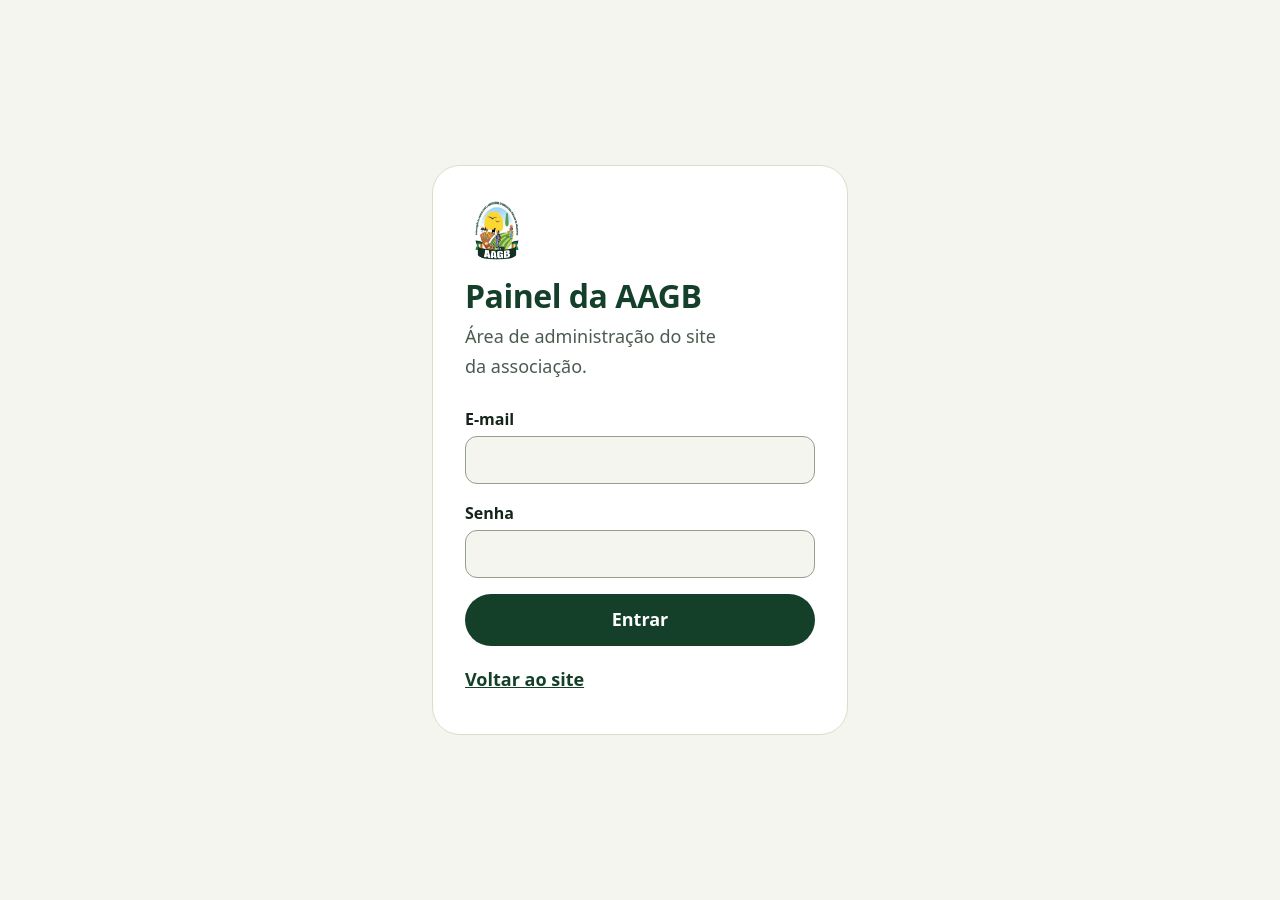
Scenario: painel administrativo › sem sessão mostra o login; senha errada mostra o erro do servidor; certa abre o resumo
Expected: the heading "Painel da AAGB" is shown, [465,274,702,317]
Type "ana@aagb.test" into the field labelled "E-mail".
click(640, 460); type("ana@aagb.test")  # box [465,436,815,484]
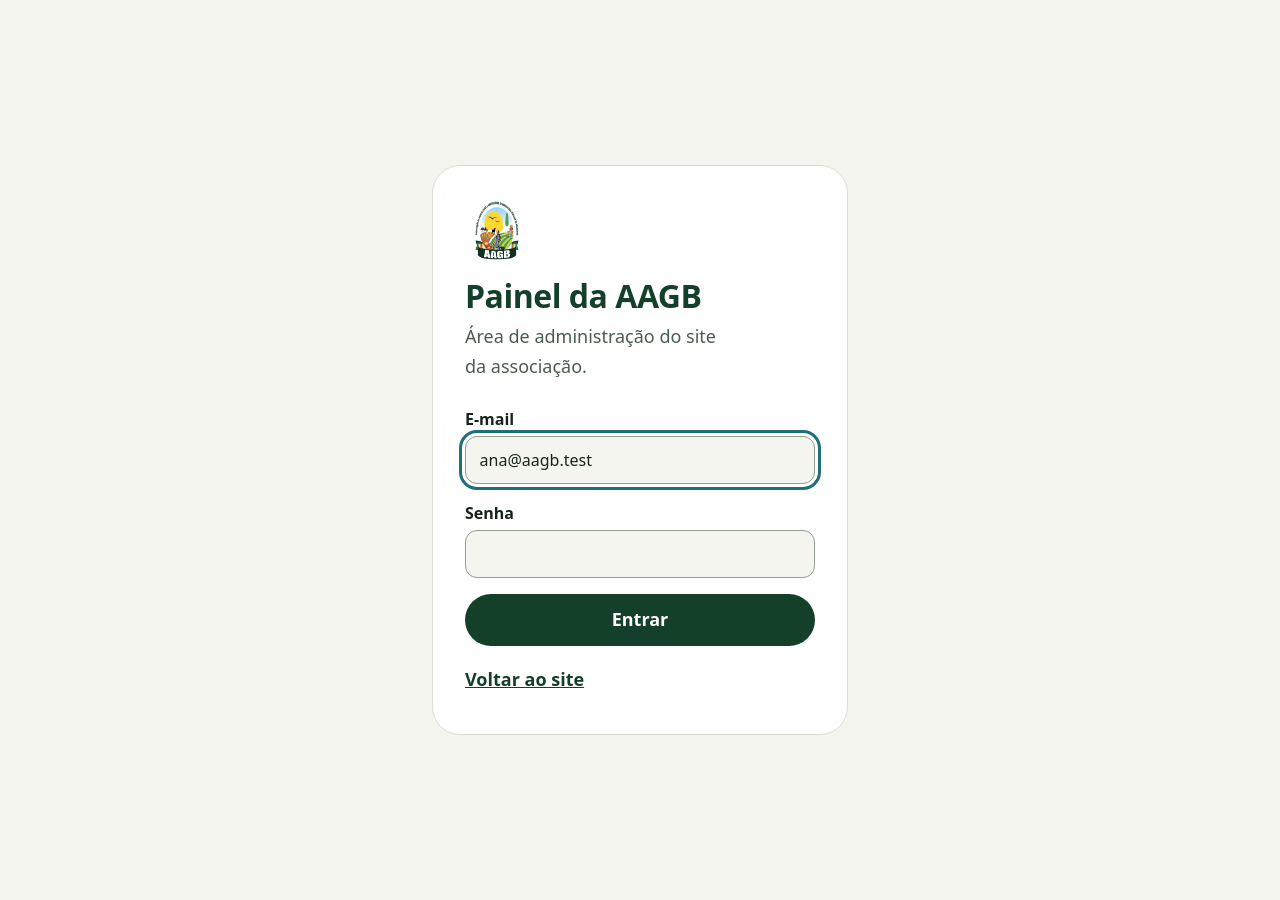
Type "errada" into the password field labelled "Senha".
click(640, 554); type("errada")  # box [465,530,815,578]
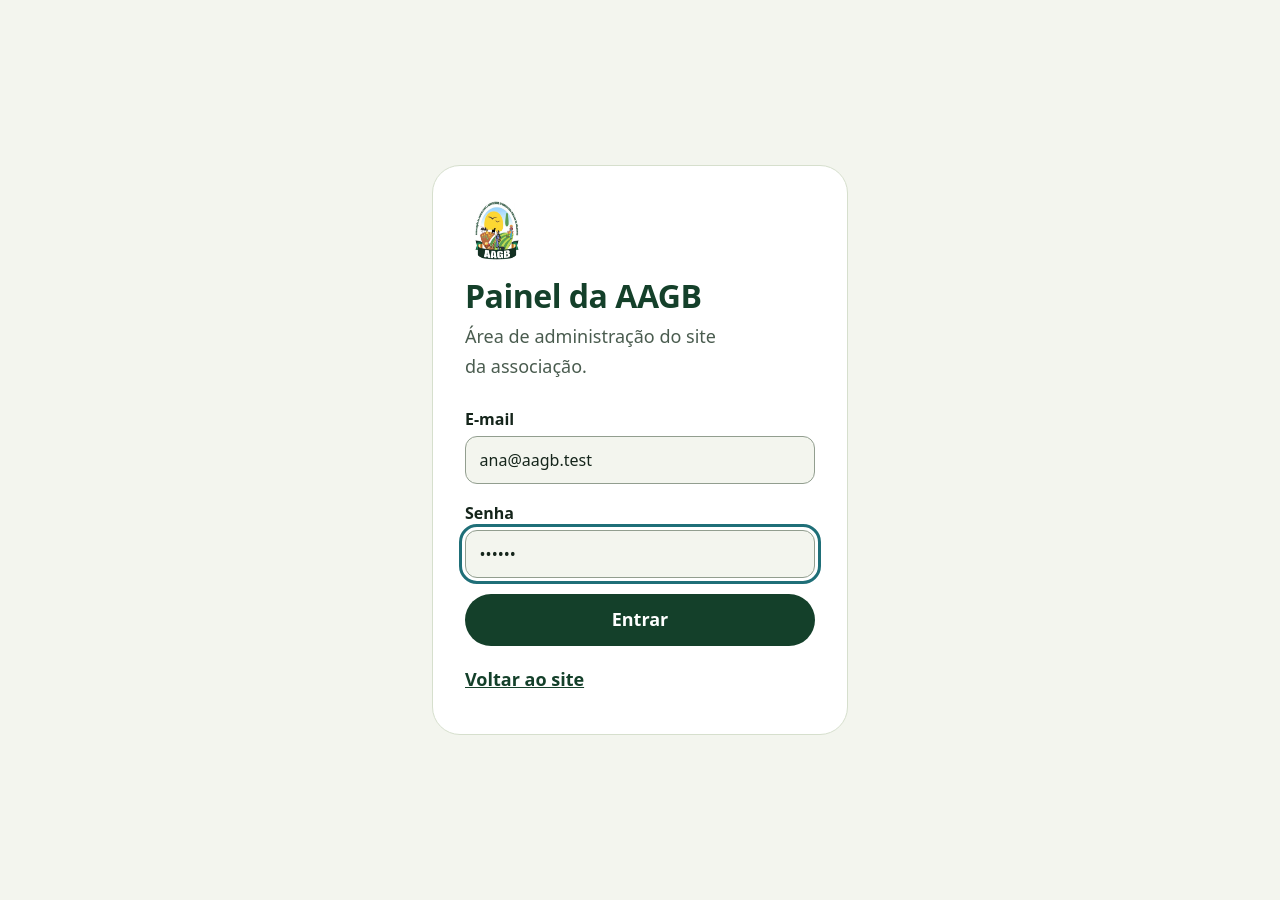
Click the button "Entrar".
click(640, 620)  # box [465,594,815,646]
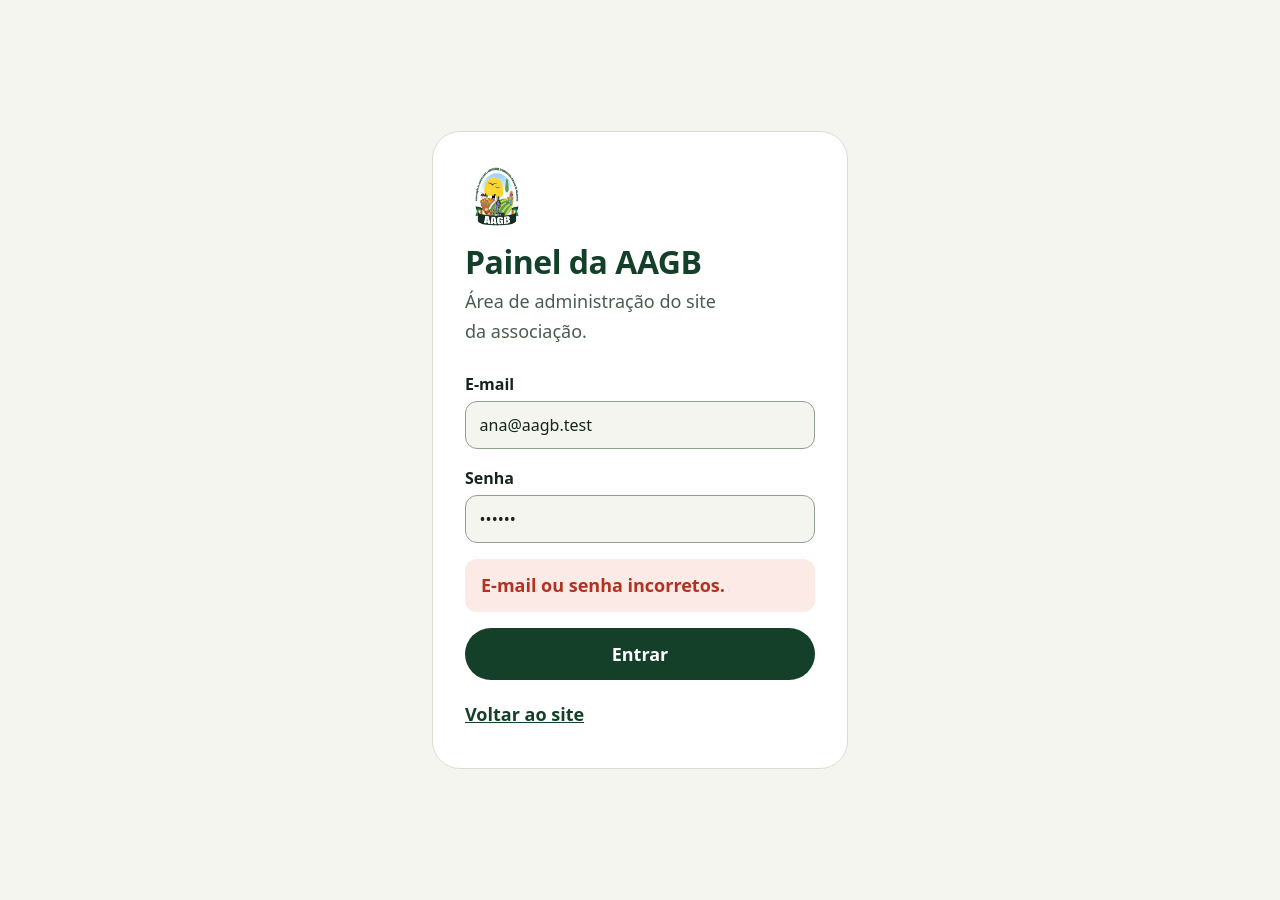
Expected: the text "E-mail ou senha incorretos." is shown, [465,559,815,612]
Type "senha-certa-123" into the password field labelled "Senha".
click(640, 519); type("senha-certa-123")  # box [465,495,815,543]
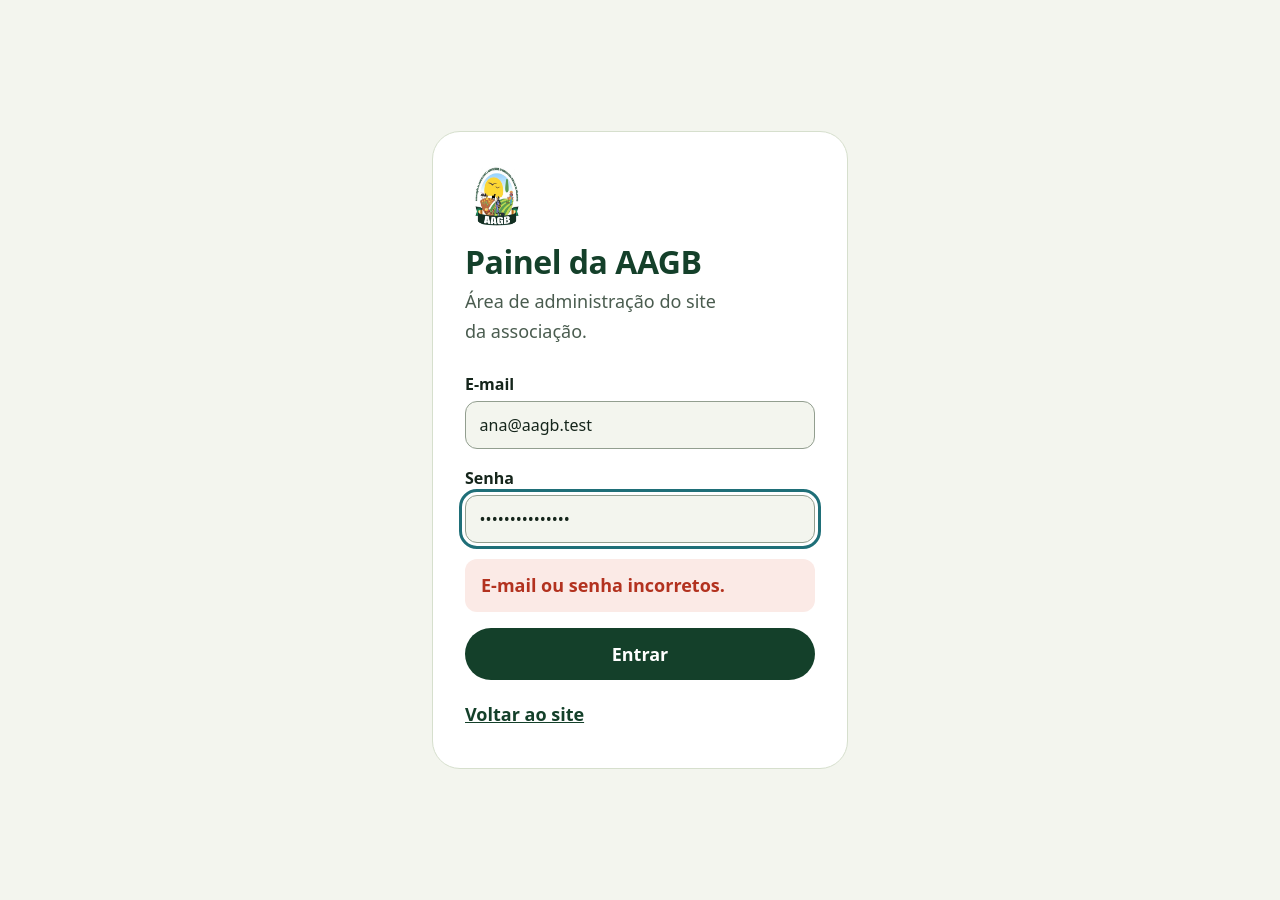
Click the button "Entrar".
click(640, 654)  # box [465,628,815,680]
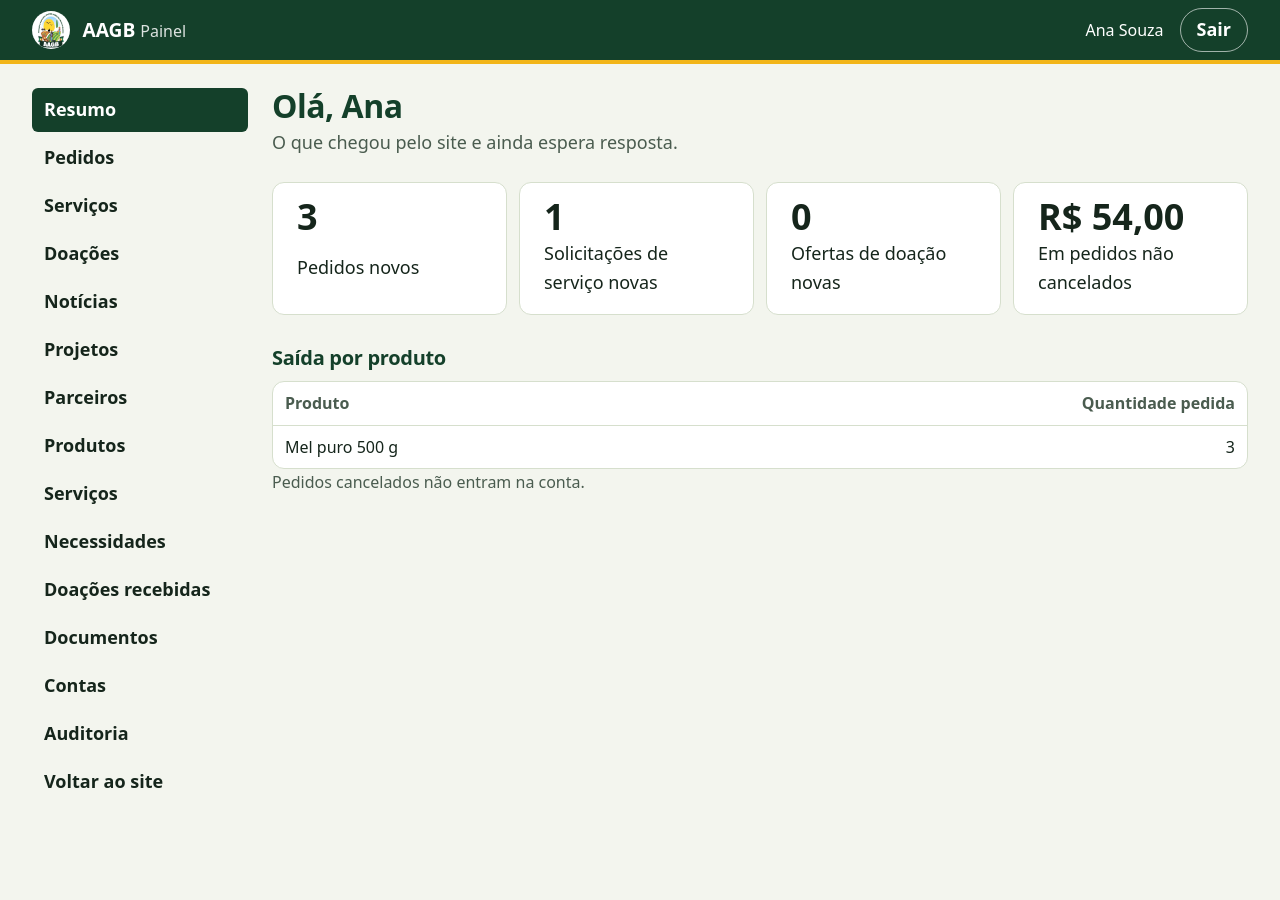
Expected: the heading "Olá, Ana" is shown, [272,84,403,127]
Expected: the cell "Mel puro 500 g" is shown, [273,425,698,468]
